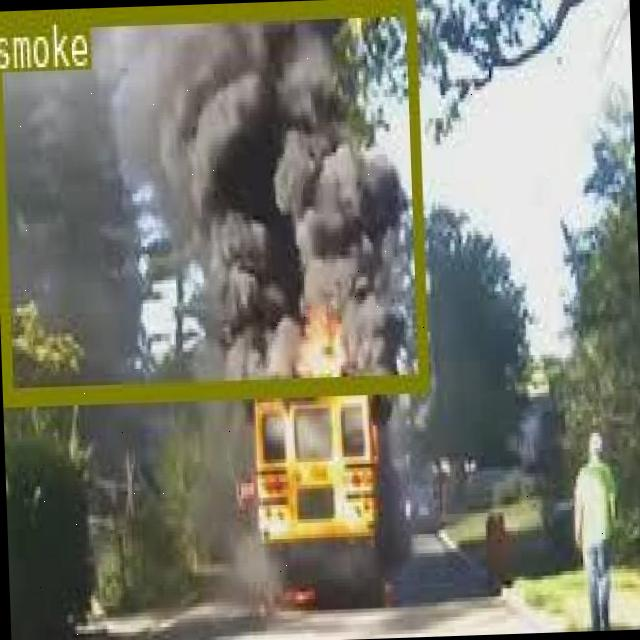smoke: (0, 0, 427, 400)
